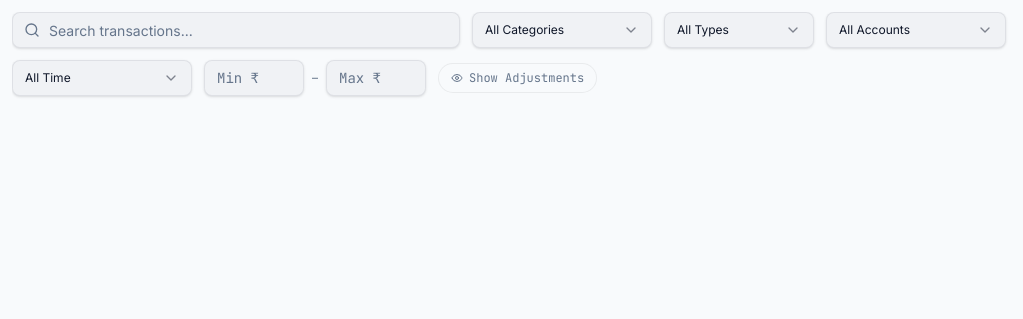
Scenario: DesktopFilterBar › opens date range select and shows options
Click the dropdown labelled "All Time".
click(102, 78)  # box [12, 60, 192, 96]
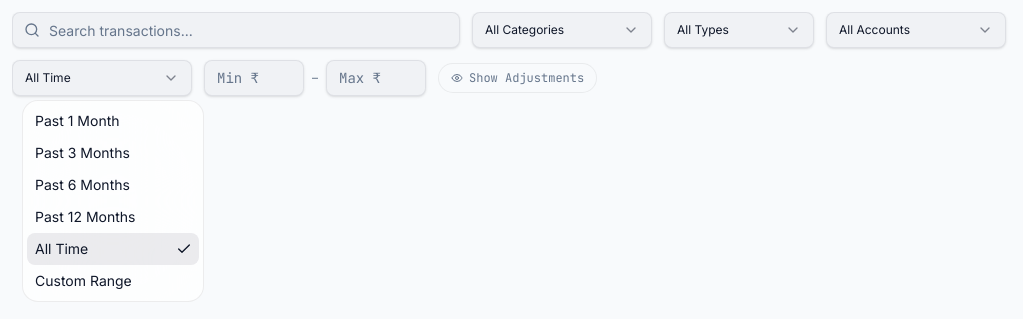
Now the text "Past 1 Month" is shown, box [35, 111, 120, 131]
Now the text "Past 3 Months" is shown, box [35, 143, 130, 163]
Now the text "Custom Range" is shown, box [35, 271, 132, 291]
